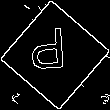P_S: (34, 28, 76, 82)
